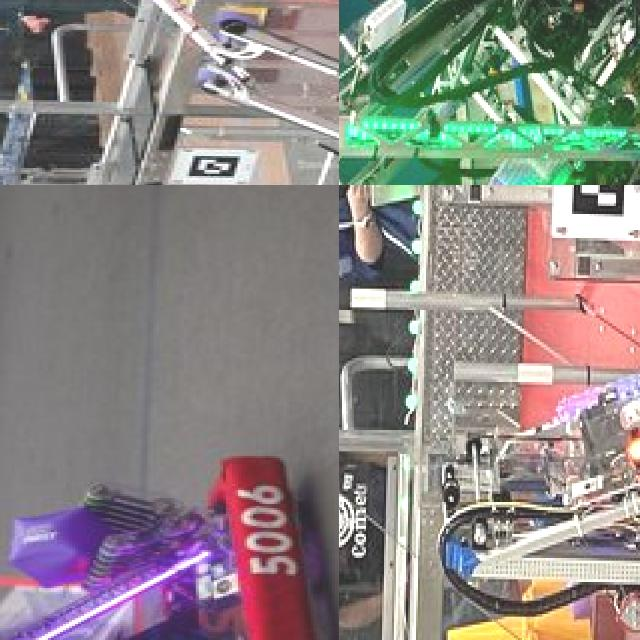FRC-Robots: (407, 235, 640, 640), (0, 400, 339, 640), (339, 0, 640, 185), (49, 0, 339, 185)
